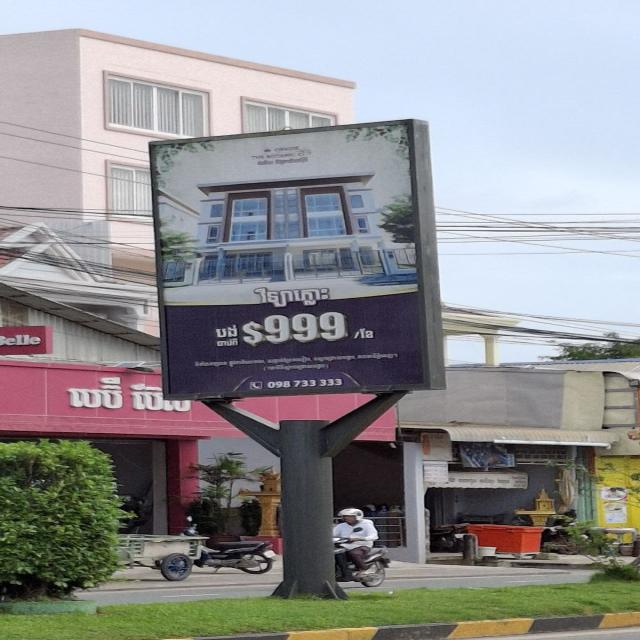Yolov11kh: (201, 309, 383, 354), (233, 278, 350, 308)
